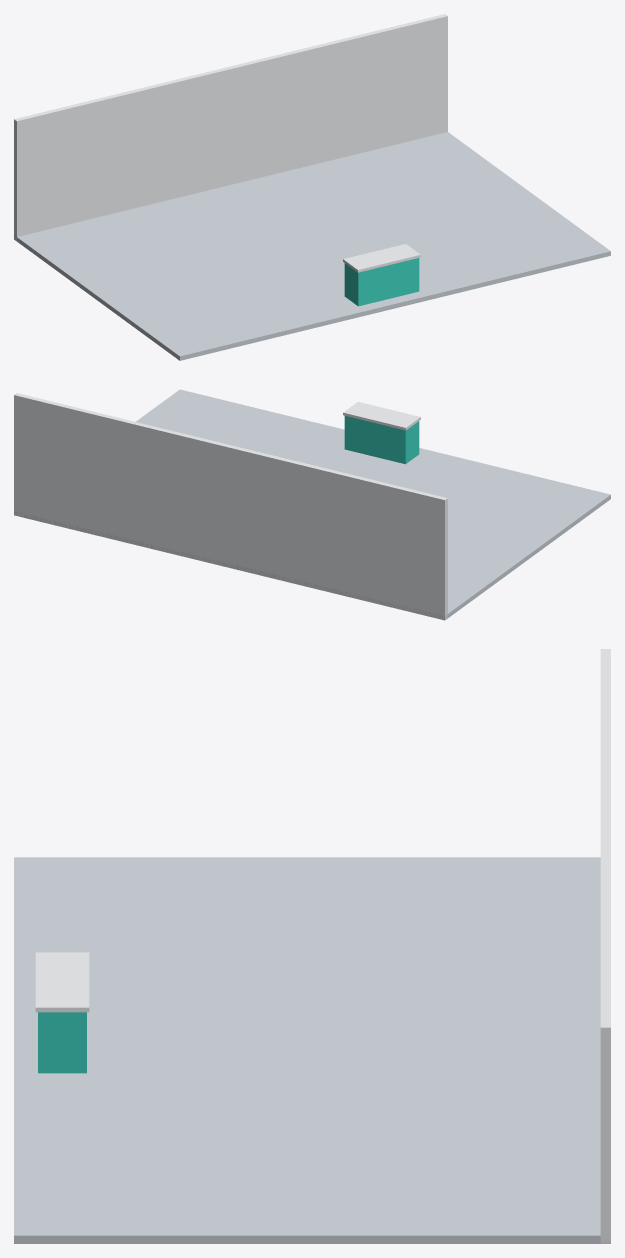
The picture shows the model from 3 angles, top to bottom: view 1: azimuth 30°, elevation 25°; view 2: azimuth 150°, elevation 25°; view 3: azimuth 270°, elevation 25°; orthographic projection. The views are drawn at different scales.
Parts seen in each view (by area): view 1: Exhibition Booth Concept; view 2: Exhibition Booth Concept; view 3: Exhibition Booth Concept.
Boxes of the visible parts, box(x1,y1,x2,y2) form: Exhibition Booth Concept: box(14, 14, 610, 360); Exhibition Booth Concept: box(14, 389, 610, 620); Exhibition Booth Concept: box(14, 649, 610, 1243).
Bounding box in the file's own units: 12 × 3.2 × 8.
